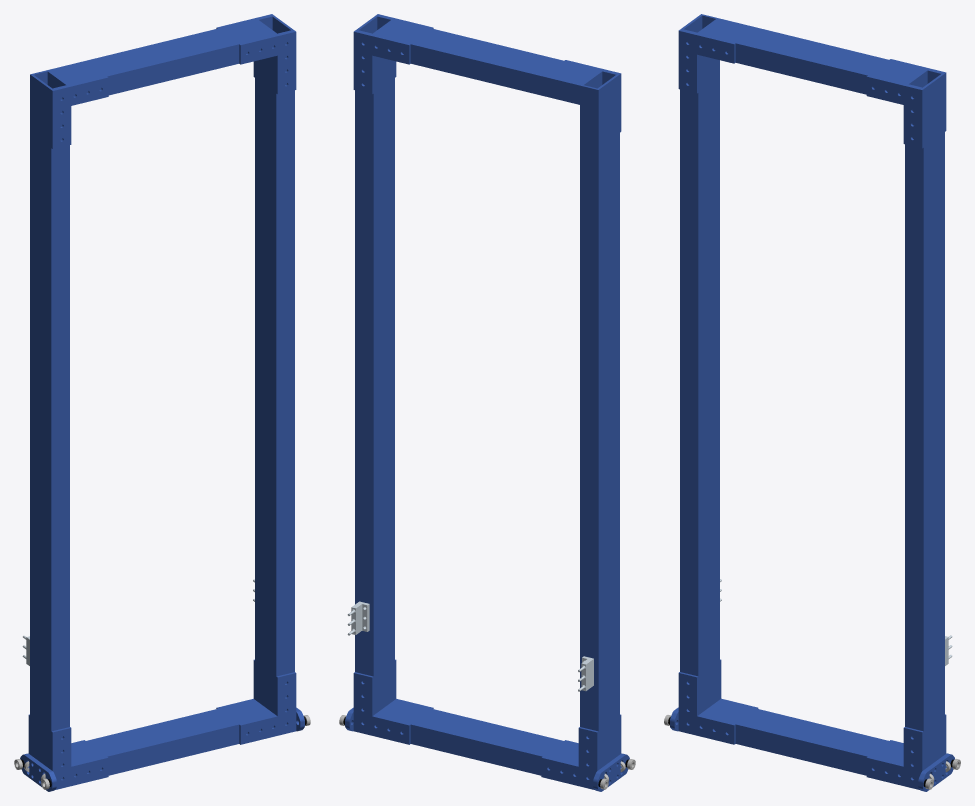
The picture shows the model from 3 angles, left to right: view 1: azimuth 30°, elevation 25°; view 2: azimuth 150°, elevation 25°; view 3: azimuth 330°, elevation 25°; orthographic projection.
Visible parts, largest first — view 1: Elevator stage 2 (×2), Part 1 (×2), L-Bracket (×4), Bearing Plate; view 2: Elevator stage 2 (×2), Part 1 (×2), L-Bracket (×3), Bearing Plate, 25 Chain Attachment Part (ELEV-DRIVE-001); view 3: Elevator stage 2 (×2), Part 1 (×2), L-Bracket (×4), Bearing Plate.
Part boxes in pixels (x1,y1,x2,y2): Elevator stage 2 (×2): (30,15,294,779); Part 1 (×2): (49,19,275,776); L-Bracket (×4): (51,30,296,789); Bearing Plate: (20,753,56,791); Elevator stage 2 (×2): (355,15,619,778); Part 1 (×2): (374,19,600,775); L-Bracket (×3): (353,30,598,789); Bearing Plate: (593,753,629,791); 25 Chain Attachment Part (ELEV-DRIVE-001): (347,601,369,635); Elevator stage 2 (×2): (680,14,944,779); Part 1 (×2): (699,18,925,775); L-Bracket (×4): (678,30,923,789); Bearing Plate: (918,753,954,791).
Size of the model in its own units: 0.3616 by 0.9144 by 0.0942.
